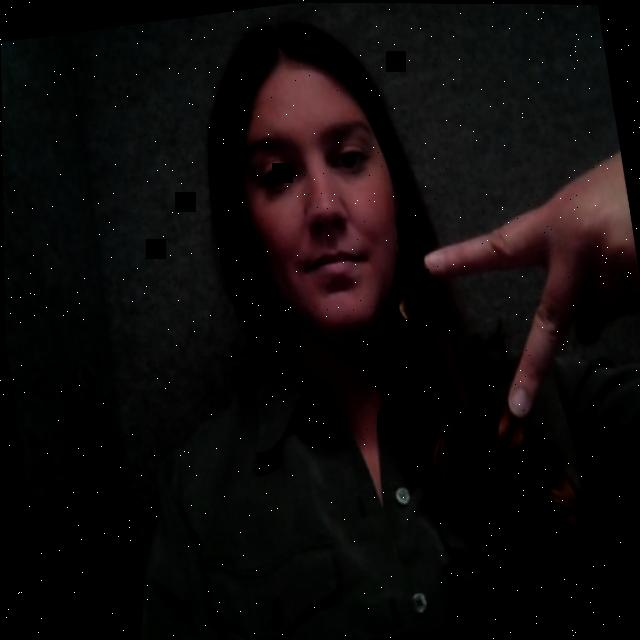Scissors: (406, 165, 640, 425)
